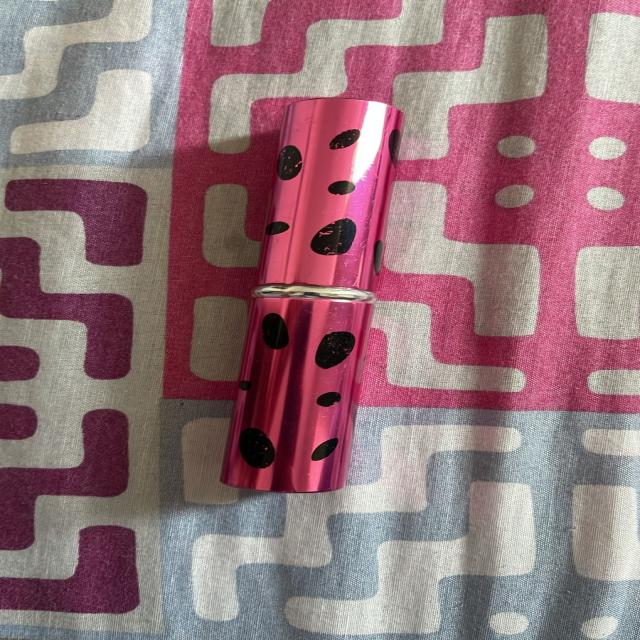lip stick: (162, 76, 428, 522)
